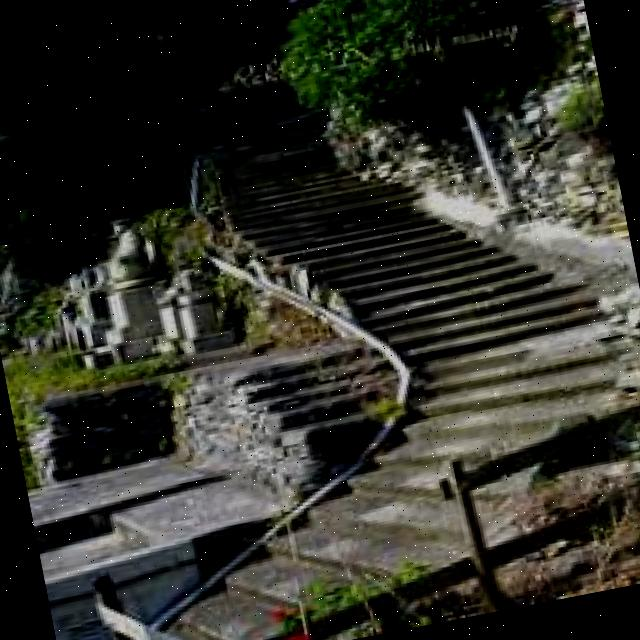stairs: (53, 0, 640, 640)
